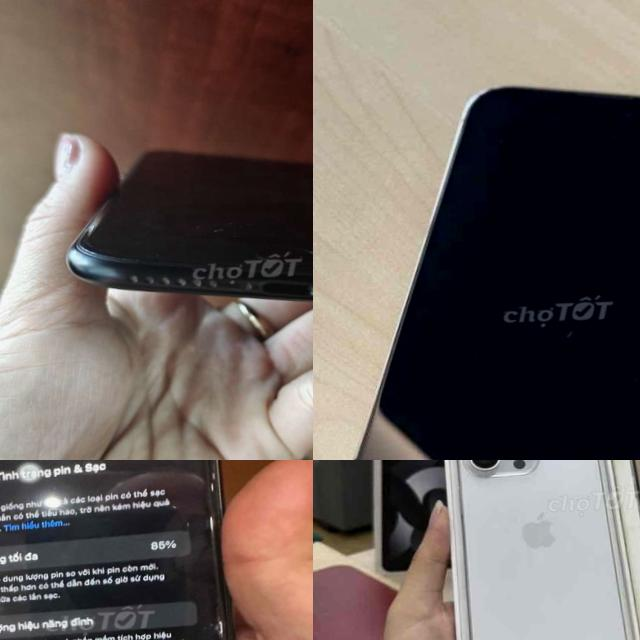scratch: (205, 463, 228, 640), (185, 209, 260, 251)
